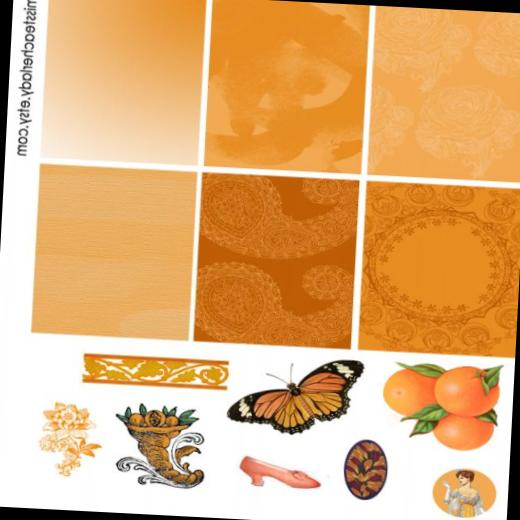Grape: (378, 366, 440, 418), (438, 367, 502, 415), (431, 416, 498, 454)
